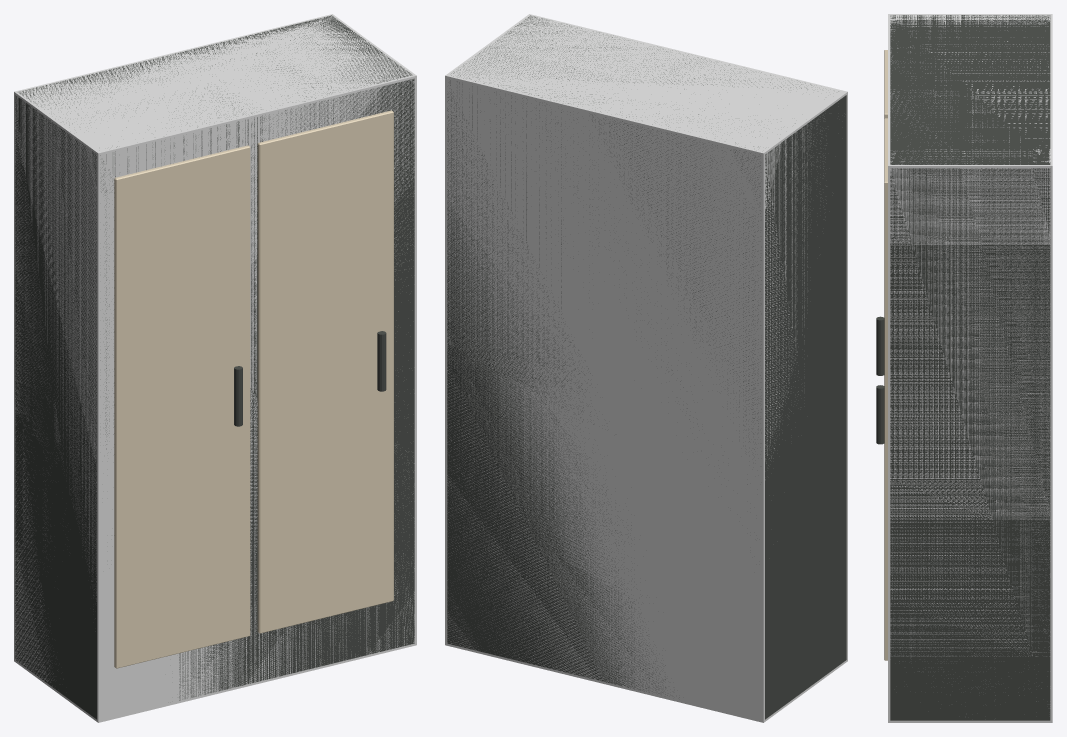
The model's file is member-locker_basic.glb.
3 views of the same model, side by side, from view 1: azimuth 30°, elevation 25°; view 2: azimuth 150°, elevation 25°; view 3: azimuth 270°, elevation 25° (orthographic). The views are drawn at different scales.
Parts seen in each view (by area): view 1: COL_member-locker, MESH_CabinetCarcass, MESH_Door_02, MESH_Door_01; view 2: COL_member-locker, MESH_CabinetCarcass; view 3: MESH_CabinetCarcass, COL_member-locker, MESH_Door_02, MESH_Handle.001, MESH_Handle.
Boxes of the visible parts, box(x1,y1,x2,y2) form: COL_member-locker: box(14, 14, 416, 722); MESH_CabinetCarcass: box(15, 15, 414, 719); MESH_Door_02: box(257, 110, 393, 633); MESH_Door_01: box(114, 145, 250, 668); COL_member-locker: box(445, 14, 847, 722); MESH_CabinetCarcass: box(447, 15, 846, 719); MESH_CabinetCarcass: box(890, 15, 1050, 720); COL_member-locker: box(888, 14, 1052, 722); MESH_Door_02: box(884, 118, 887, 660); MESH_Handle.001: box(876, 385, 884, 444); MESH_Handle: box(876, 316, 884, 375).
Size of the model in its own units: 1.2 by 2.05 by 0.5891.
